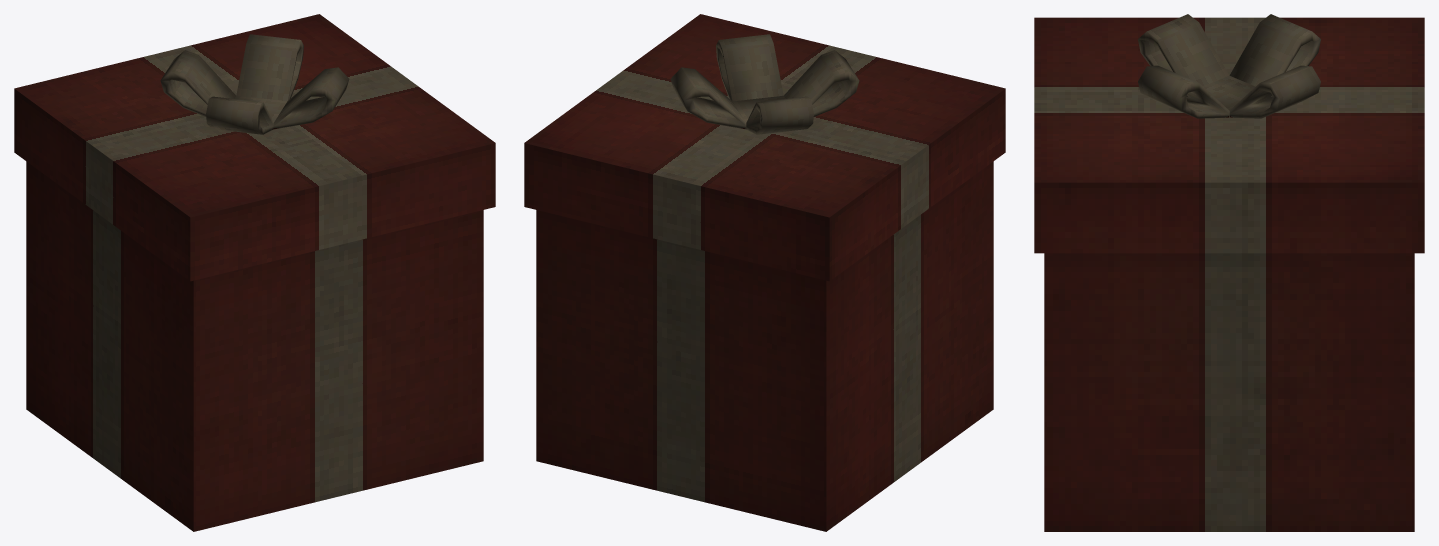
File: gift_box_mx_1.glb
The picture shows the model from 3 angles, left to right: view 1: azimuth 30°, elevation 25°; view 2: azimuth 150°, elevation 25°; view 3: azimuth 270°, elevation 25°; orthographic projection. The views are drawn at different scales.
Parts seen in each view (by area): view 1: gift_box_mx_1; view 2: gift_box_mx_1; view 3: gift_box_mx_1.
Part boxes in pixels (x1,y1,x2,y2): gift_box_mx_1: (14,14,495,531); gift_box_mx_1: (524,14,1005,531); gift_box_mx_1: (1034,14,1424,531).
Bounding box in the file's own units: 0.2 × 0.229 × 0.2.
1 material, 1 textured.
